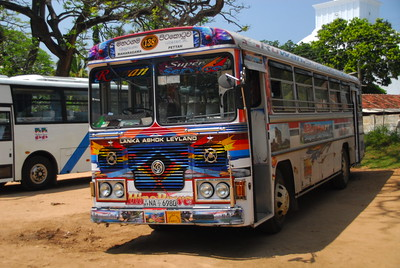bus: (88, 27, 364, 236), (1, 73, 89, 188)
